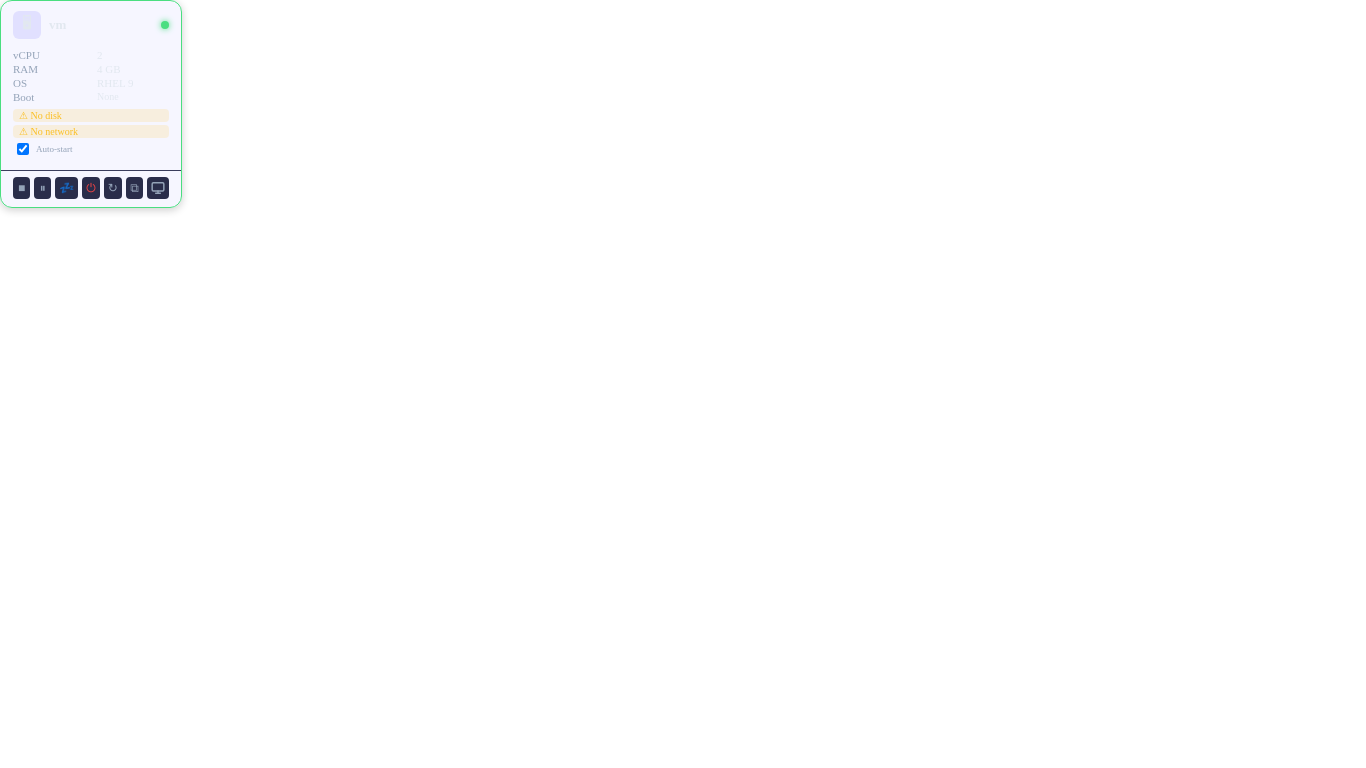
Test case: VM action result contracts › surfaces detailed pause failures without changing the VM state
Click the button titled "Pause": coordinates (43, 188) [34,177,51,199]
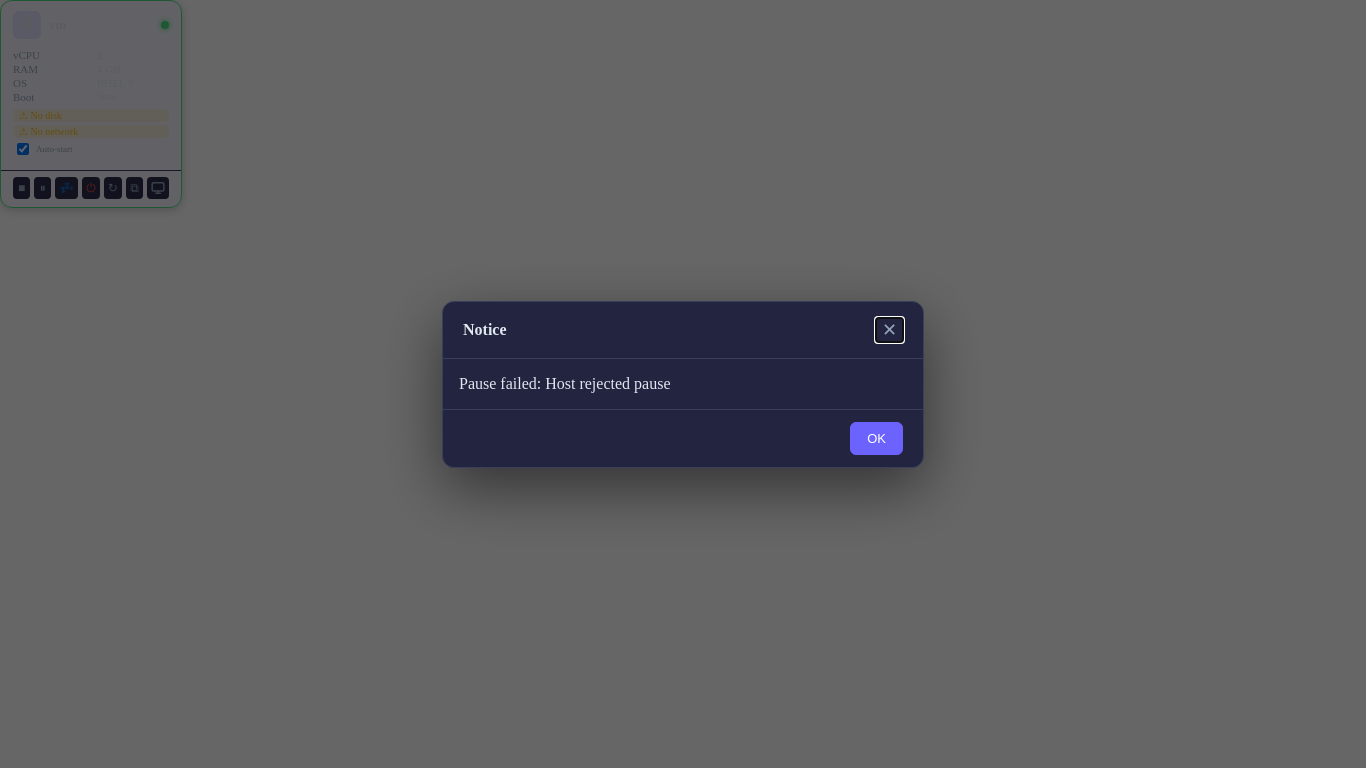
Expected: the text "Pause failed: Host rejected pause" is shown, [459,374,670,392]
